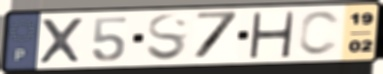5: (90, 14, 129, 63)
7: (193, 10, 241, 63)
C: (296, 9, 344, 58)
H: (246, 11, 297, 59)
S: (145, 12, 191, 63)
X: (37, 16, 86, 66)
